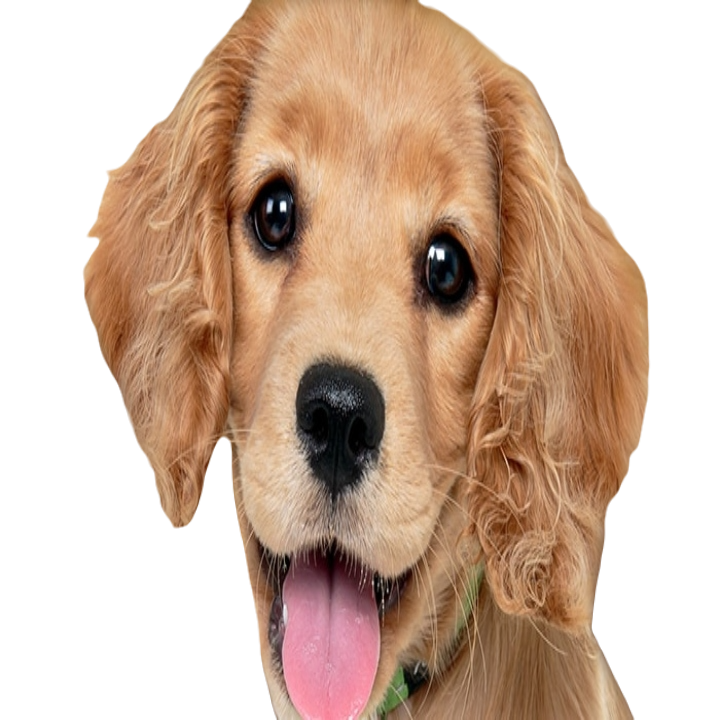Dog: (79, 0, 645, 720)
